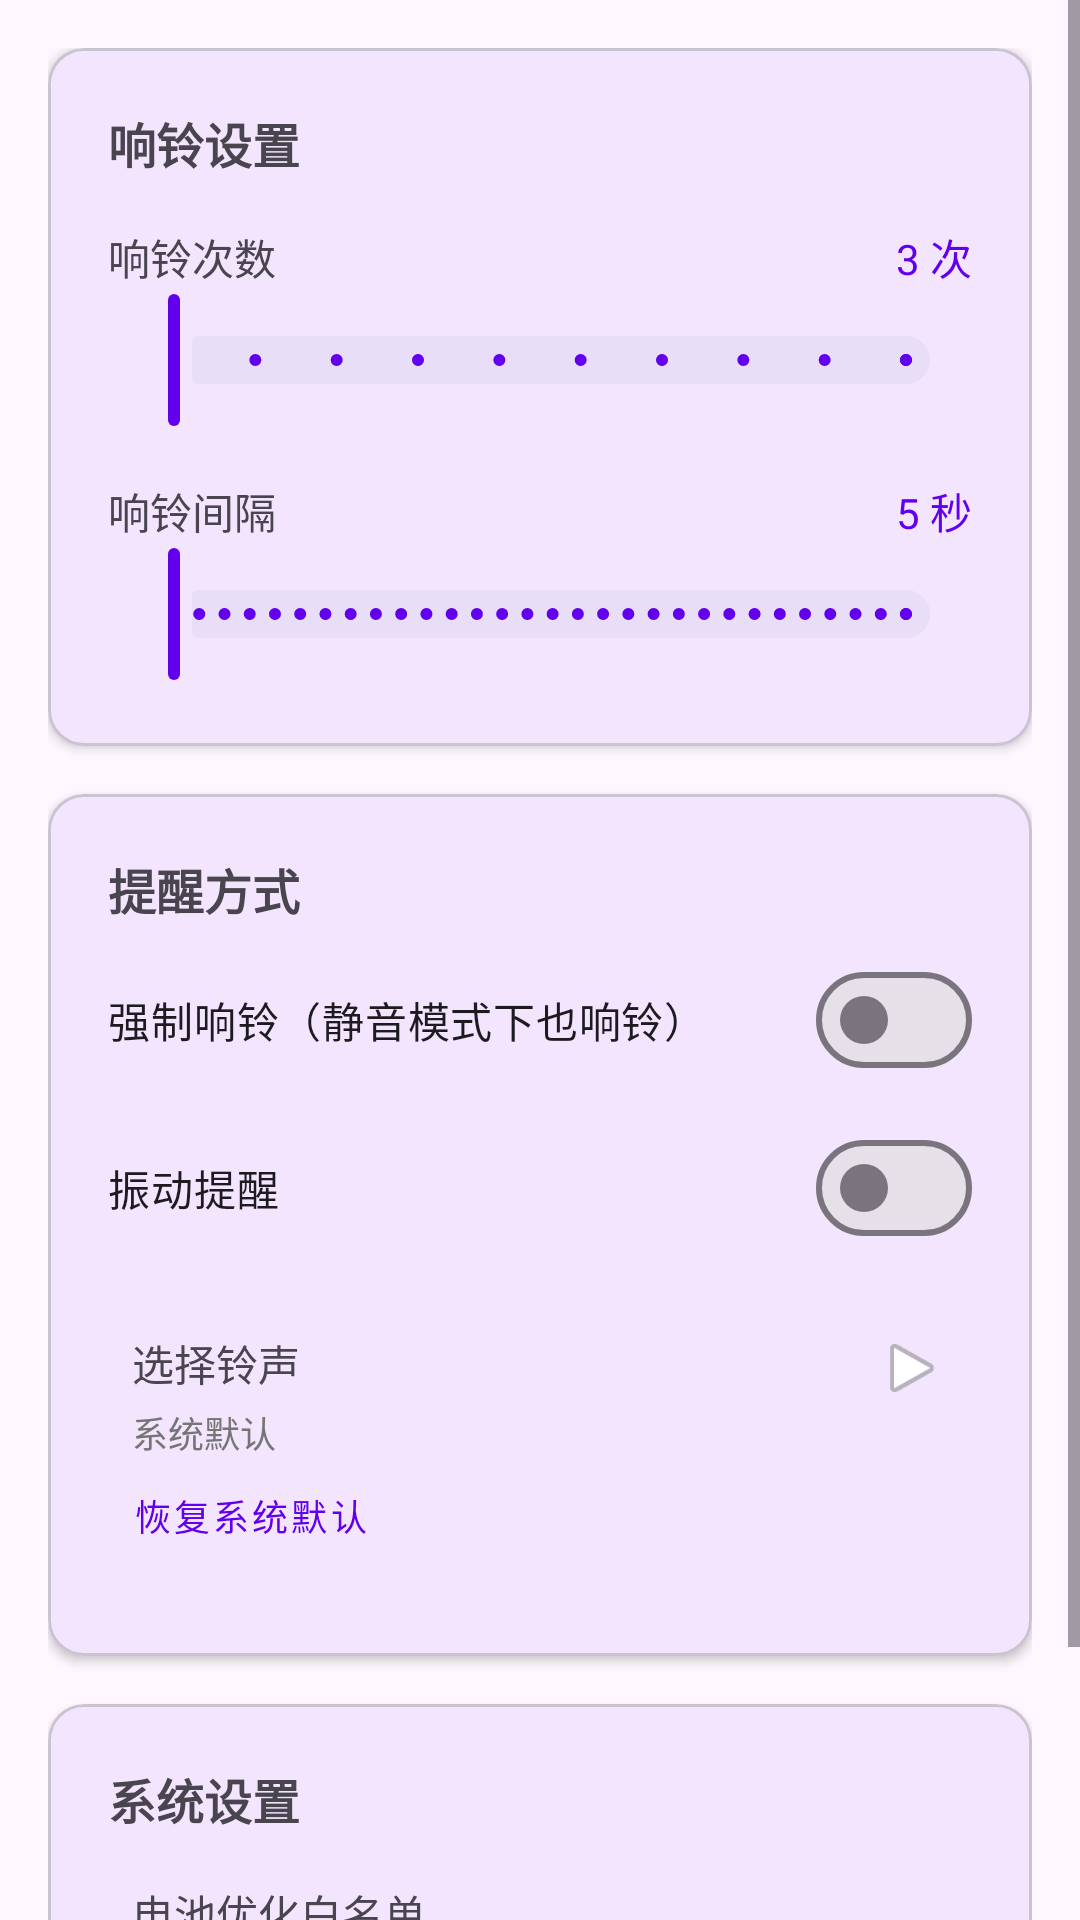

Named icons in this screenshot (1080 x 1920) and their bounding boxes, (x1, y1, x2, y2):
play: (890, 1344, 934, 1392)
